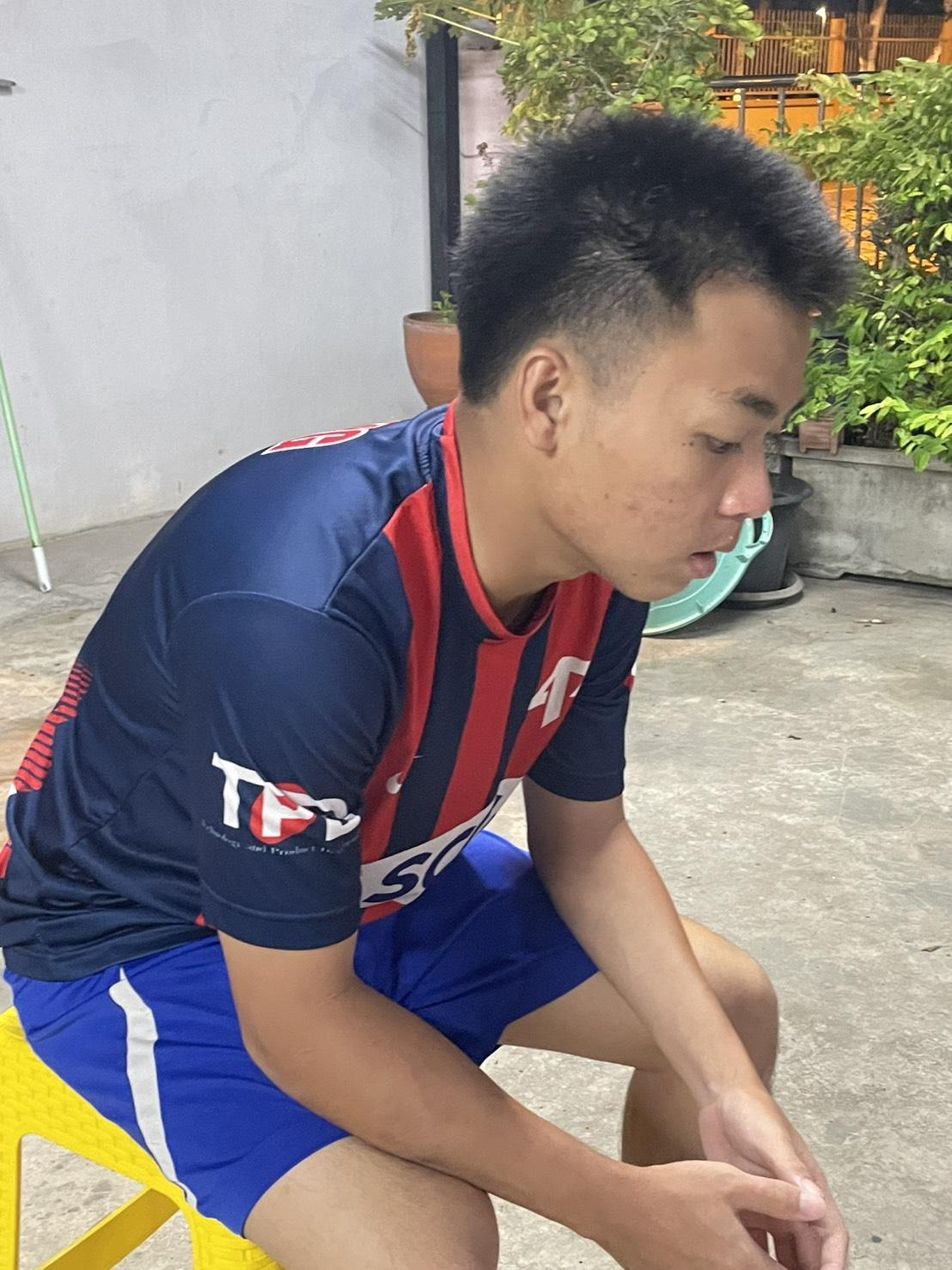BadPosture: (0, 107, 853, 1141)
